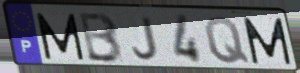4: (170, 13, 203, 67)
B: (79, 11, 126, 65)
J: (130, 15, 160, 62)
M: (33, 11, 87, 62), (240, 16, 295, 66)
Q: (202, 15, 252, 66)
